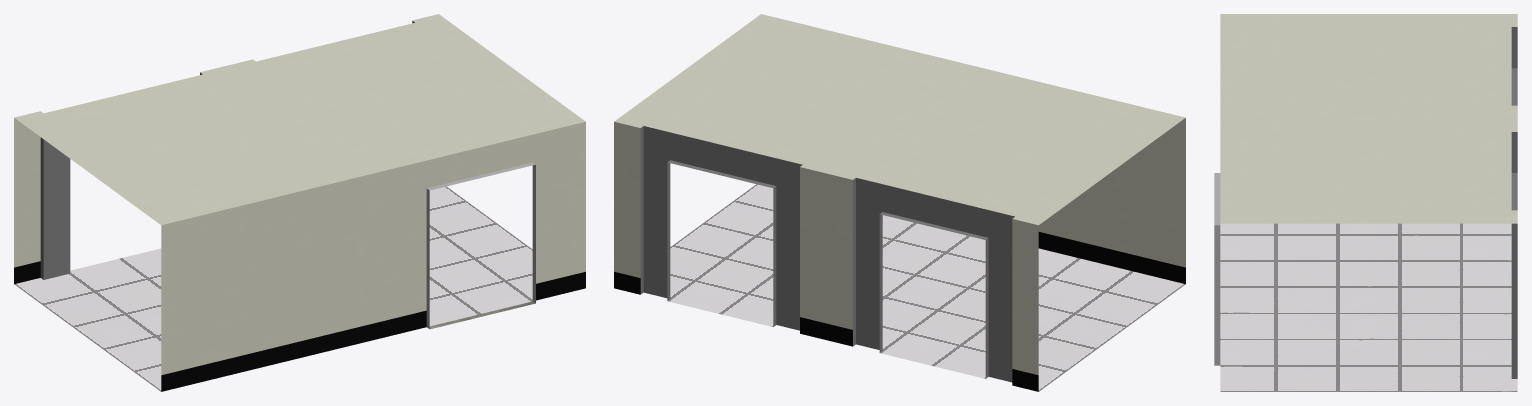
The model's file is ElevatorCorridor.glb.
3 views of the same model, side by side, from view 1: azimuth 30°, elevation 25°; view 2: azimuth 150°, elevation 25°; view 3: azimuth 270°, elevation 25° (orthographic).
Visible parts, largest first — view 1: ElevatorCorridor; view 2: ElevatorCorridor; view 3: ElevatorCorridor.
Boxes of the visible parts, <box> form: ElevatorCorridor: <box>14,14,585,391</box>; ElevatorCorridor: <box>614,14,1185,391</box>; ElevatorCorridor: <box>1214,14,1517,391</box>.
Bounding box in the file's own units: 8 × 3 × 4.9.
6 materials, 3 textured.
